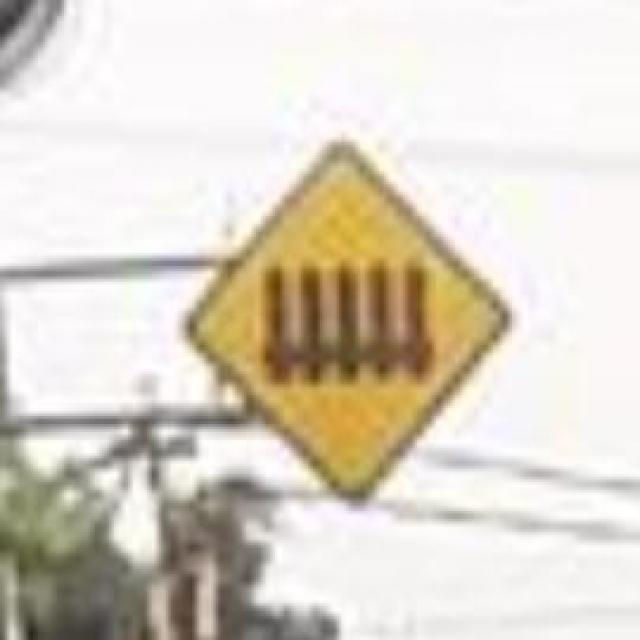traffic sign: (194, 148, 498, 488)
